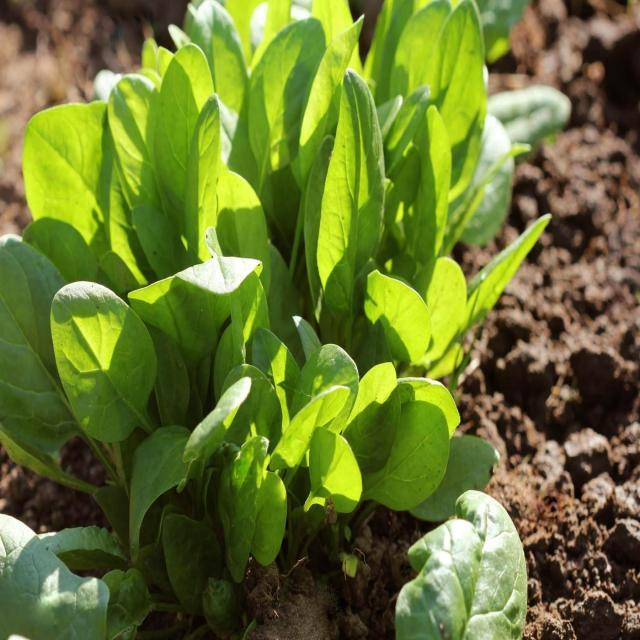Spinach: (0, 0, 568, 640)
